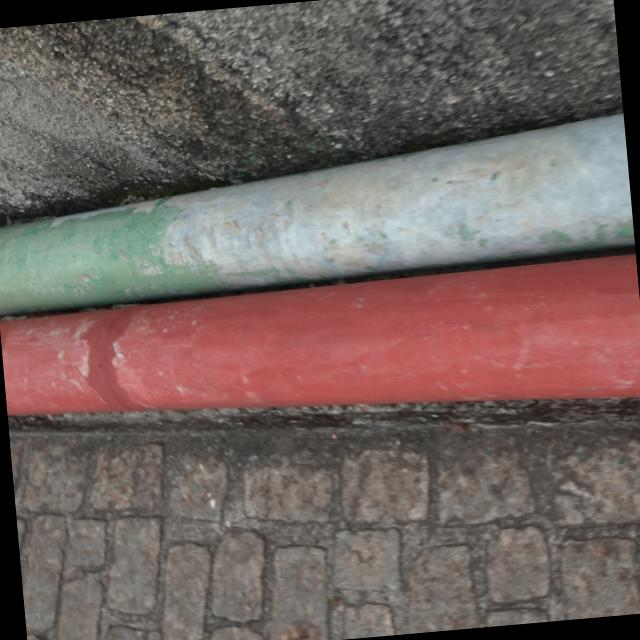gas: (0, 81, 635, 303), (0, 245, 640, 458)
